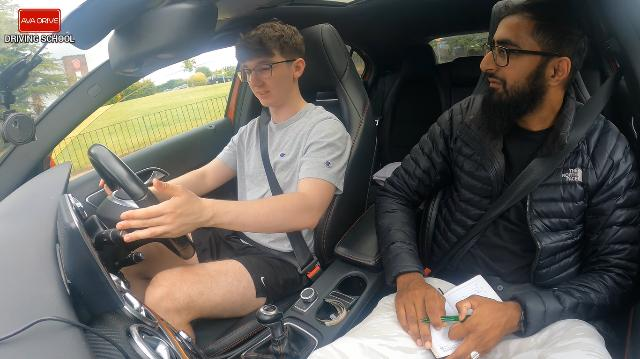seatbelt: (399, 96, 601, 320), (256, 106, 322, 282)
